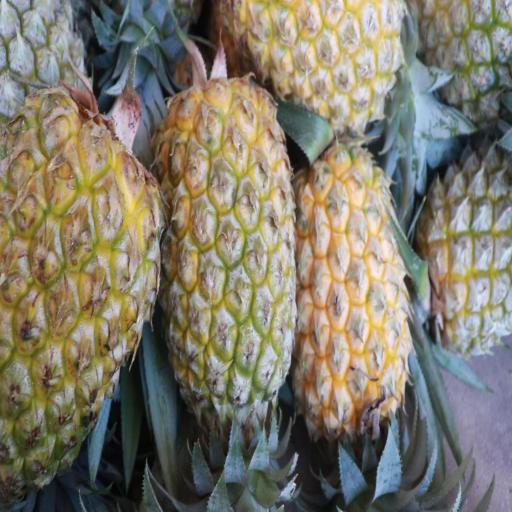------------------------------: (418, 150, 512, 355)
Pineapple - v8 v1: (0, 93, 158, 498), (164, 90, 294, 422), (296, 142, 411, 449), (227, 0, 404, 133)
